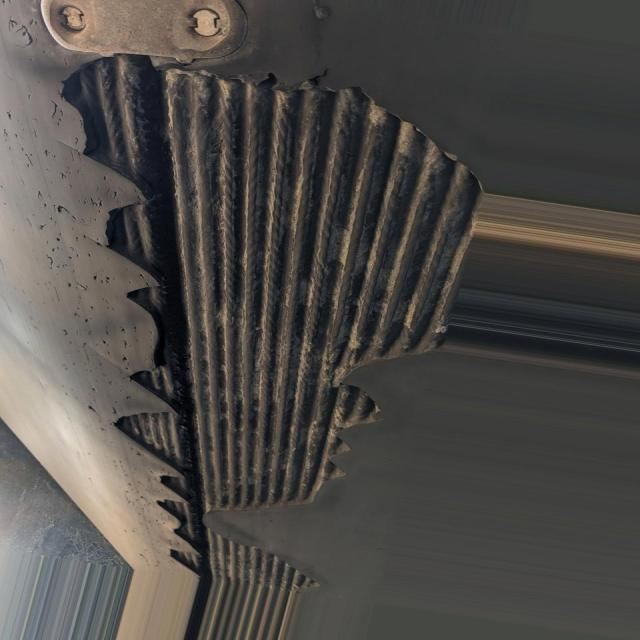Tear: (53, 44, 494, 640)
